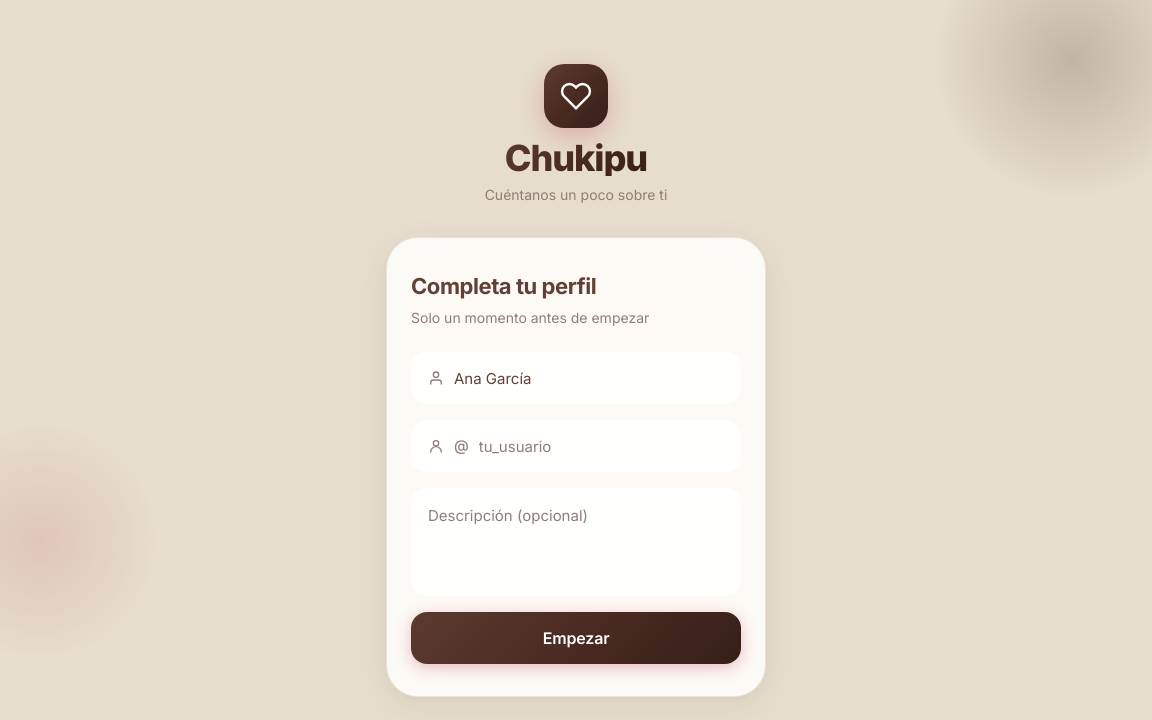
Test case: OnboardingPage › shows error when username is already taken — if this fails, duplicate usernames are allowed
The width and height of the screenshot is (1152, 720).
Replace the text in the field with placeholder "Tu nombre" with "Ana" at (589, 378), box [454,353,724,403]
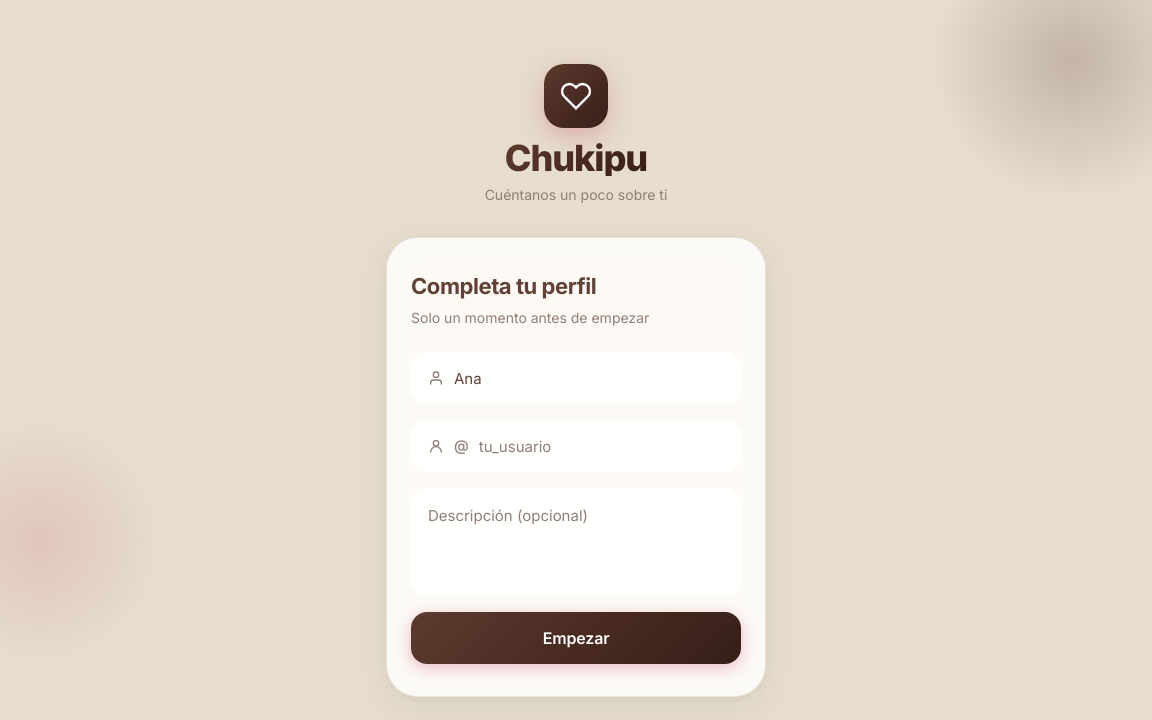
Type "anagarcia" into the field with placeholder "tu_usuario" at (601, 446), box [479,421,724,471]
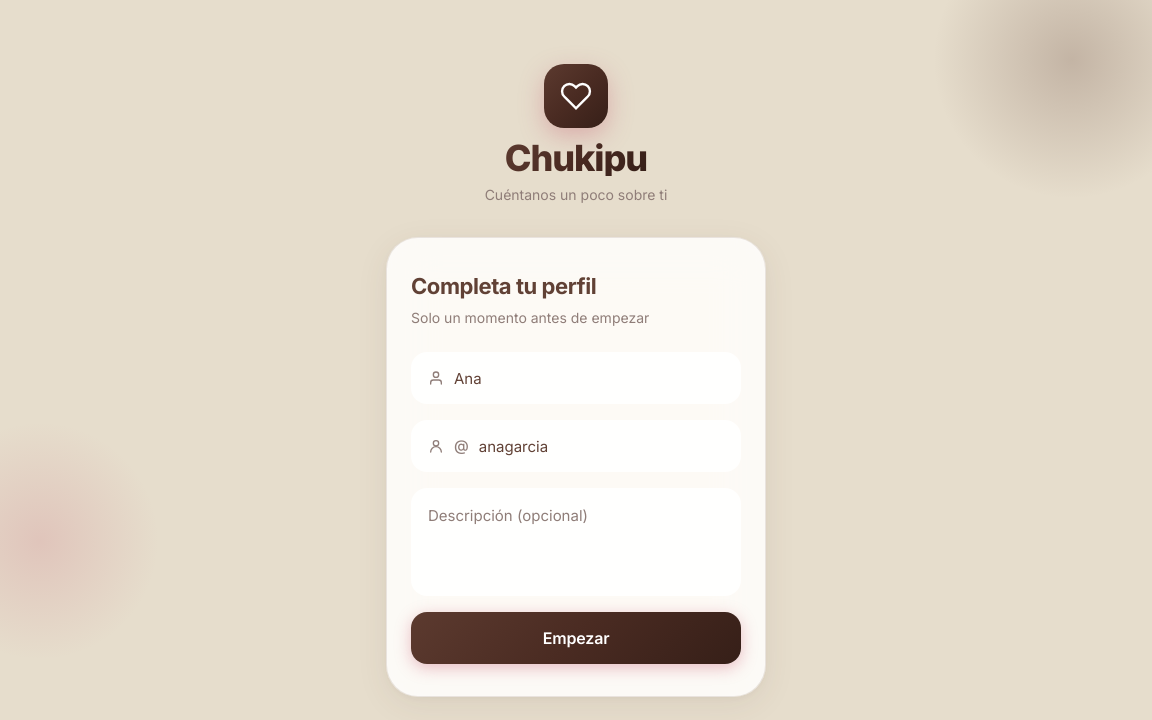
Click the button "Empezar" at (576, 638), box [411,612,741,664]
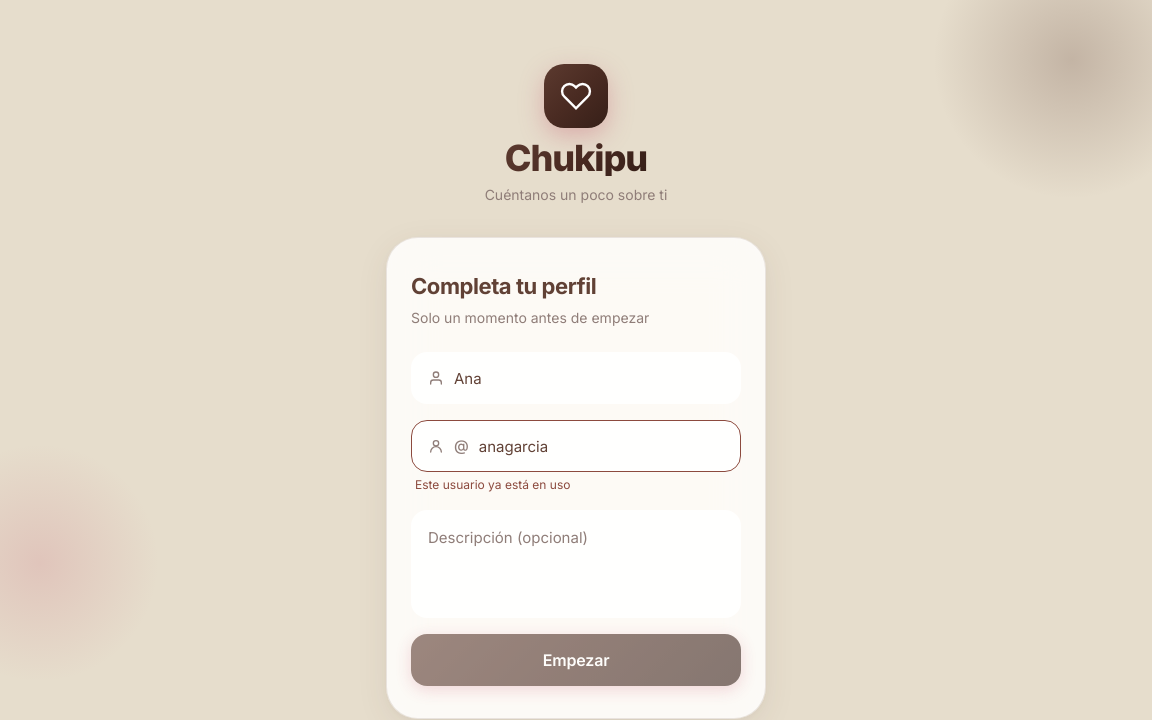
Expected: the text "Este usuario ya está en uso" is shown, [415,477,570,492]
